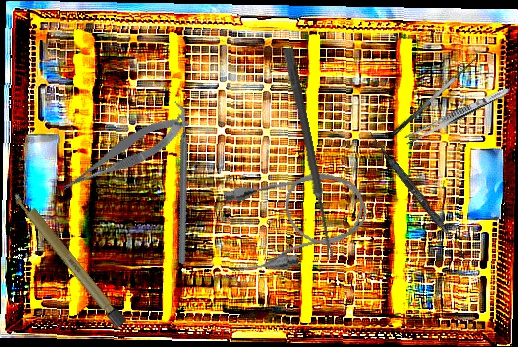Cannula: (212, 159, 376, 282)
Chopper: (115, 100, 245, 266)
Dressing Forceps: (402, 84, 513, 147)
Micro Scissor: (52, 109, 196, 197)
Scalpel Handle: (10, 188, 127, 329)
Spatula Surgical: (364, 131, 472, 260), (383, 47, 485, 138)
Surgical Spoon: (281, 47, 338, 260)
